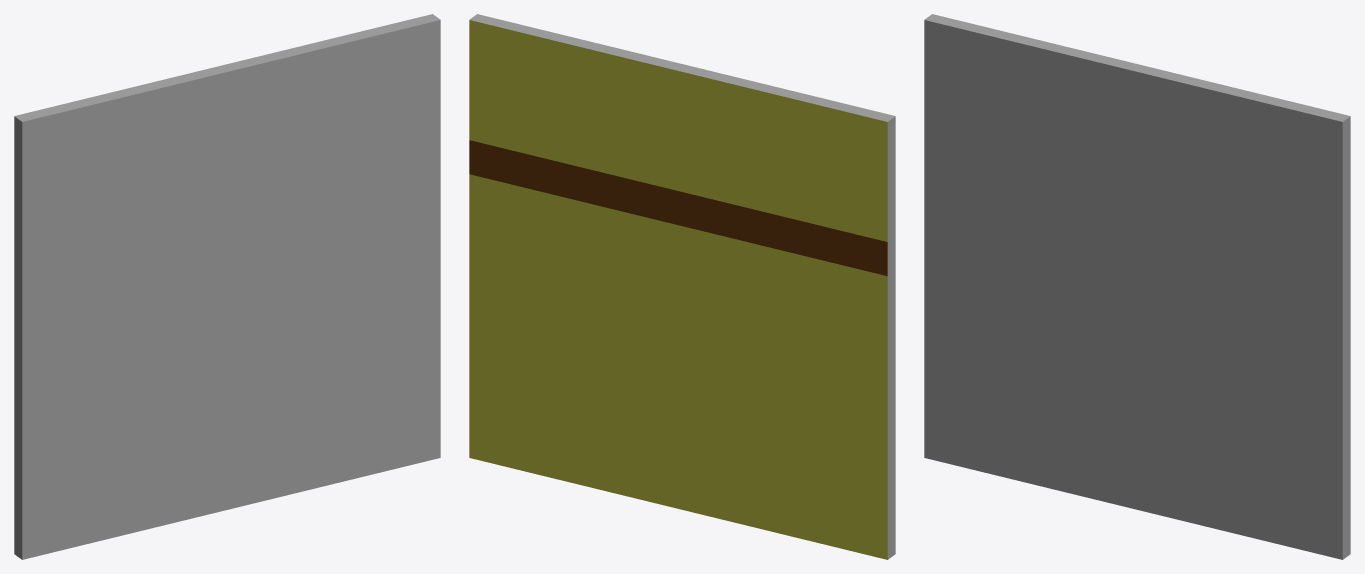
The model's file is wall.fbx.
The picture shows the model from 3 angles, left to right: view 1: azimuth 30°, elevation 25°; view 2: azimuth 150°, elevation 25°; view 3: azimuth 330°, elevation 25°; orthographic projection.
Visible parts, largest first — view 1: wall; view 2: wall; view 3: wall.
Boxes of the visible parts, left/top/right/bottom form: wall: left=14, top=14, right=440, bottom=559; wall: left=469, top=14, right=895, bottom=559; wall: left=924, top=14, right=1350, bottom=559.
Size of the model in its own units: 300 by 300 by 10.
